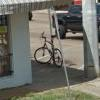Bicycle: (33, 30, 63, 73)
